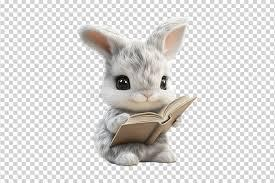non-mango: (76, 16, 194, 166)
